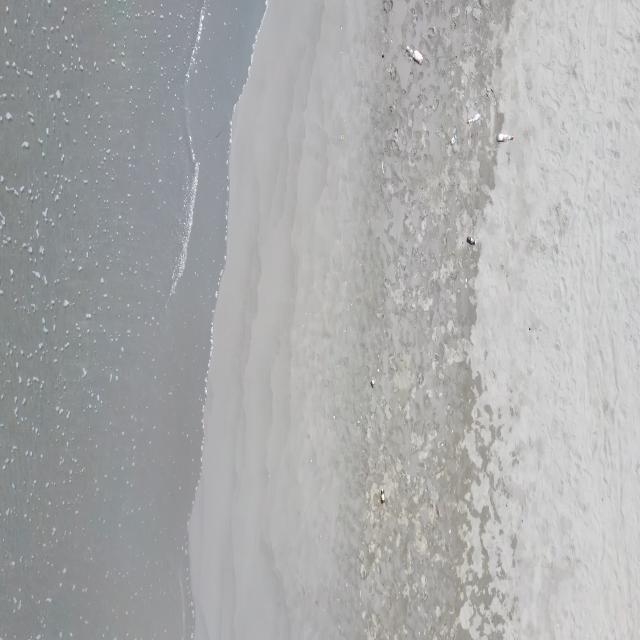glass: (406, 46, 424, 66), (496, 131, 514, 142), (467, 113, 480, 124), (379, 487, 386, 504), (466, 235, 476, 246), (449, 134, 458, 146), (370, 380, 376, 388)
